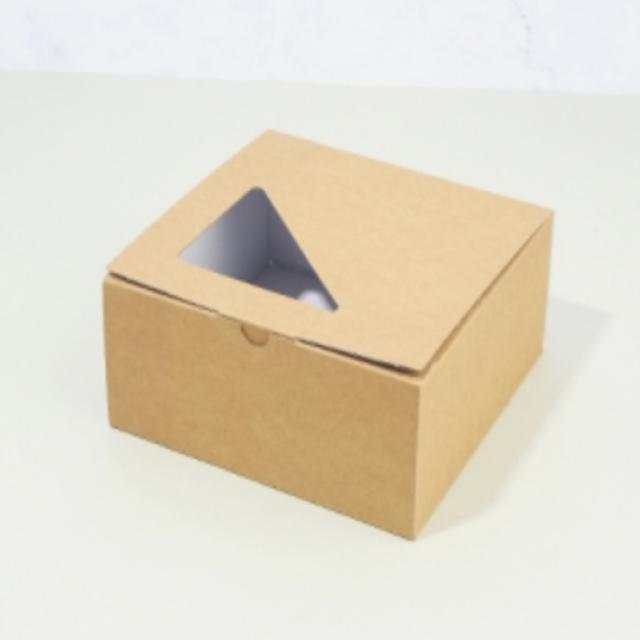biodegradable: (55, 90, 594, 571)
